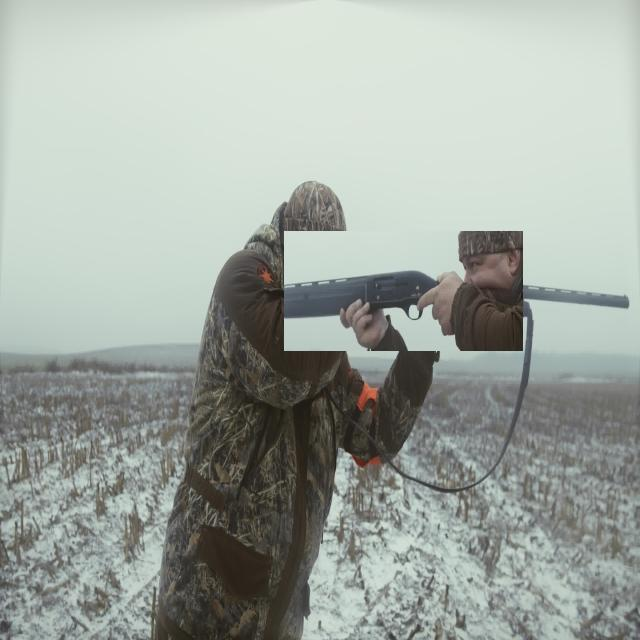poacher: (213, 212, 369, 592)
weapon: (284, 231, 523, 351)
